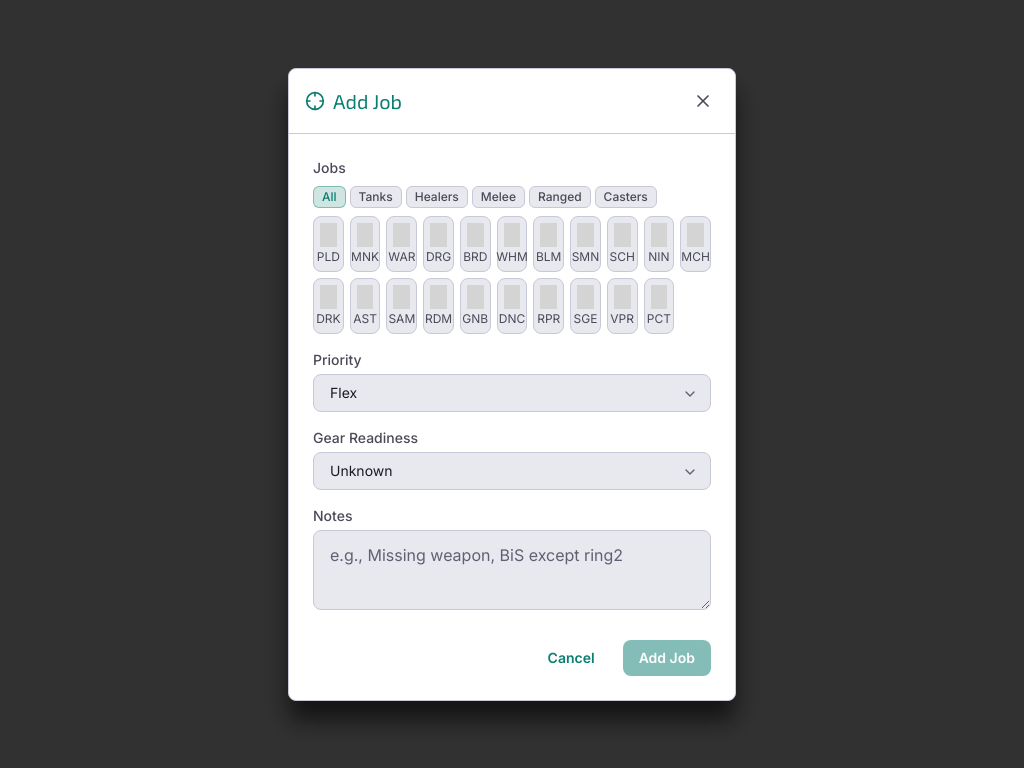
Test case: JobProfileModal (Add mode) › selecting two jobs updates button label to "Add 2 Jobs"
Click the button with test id "job-chip-BRD" at (475, 244), box [460,216,491,272]
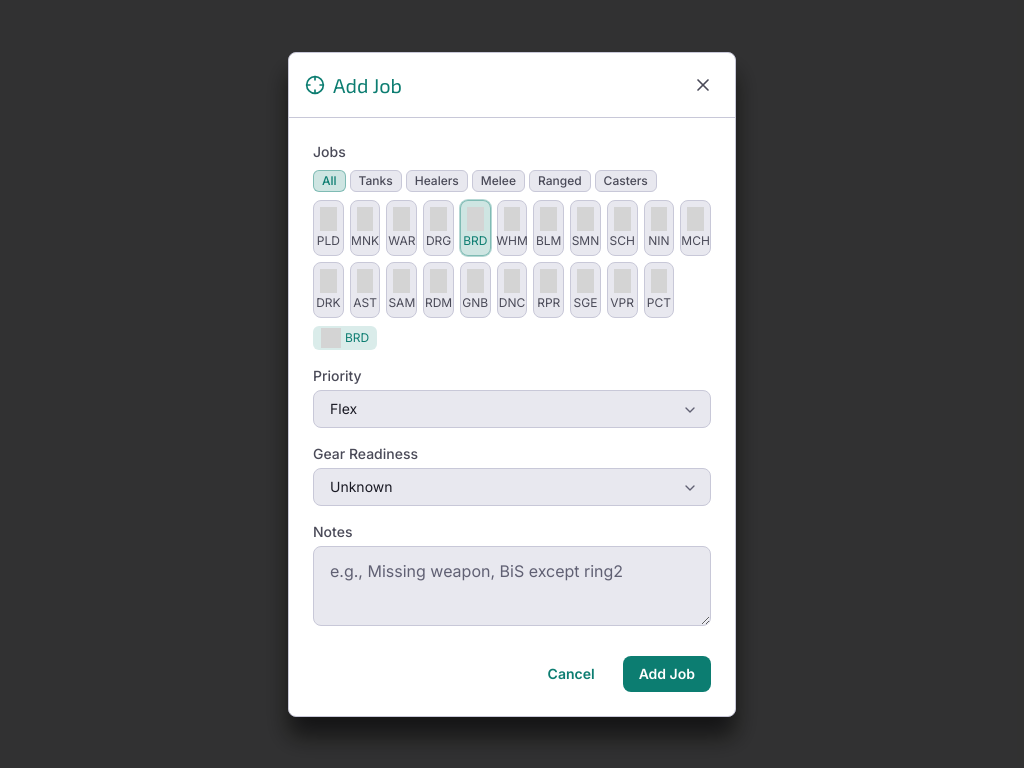
Click the button with test id "job-chip-MCH" at (696, 228), box [680,200,711,256]
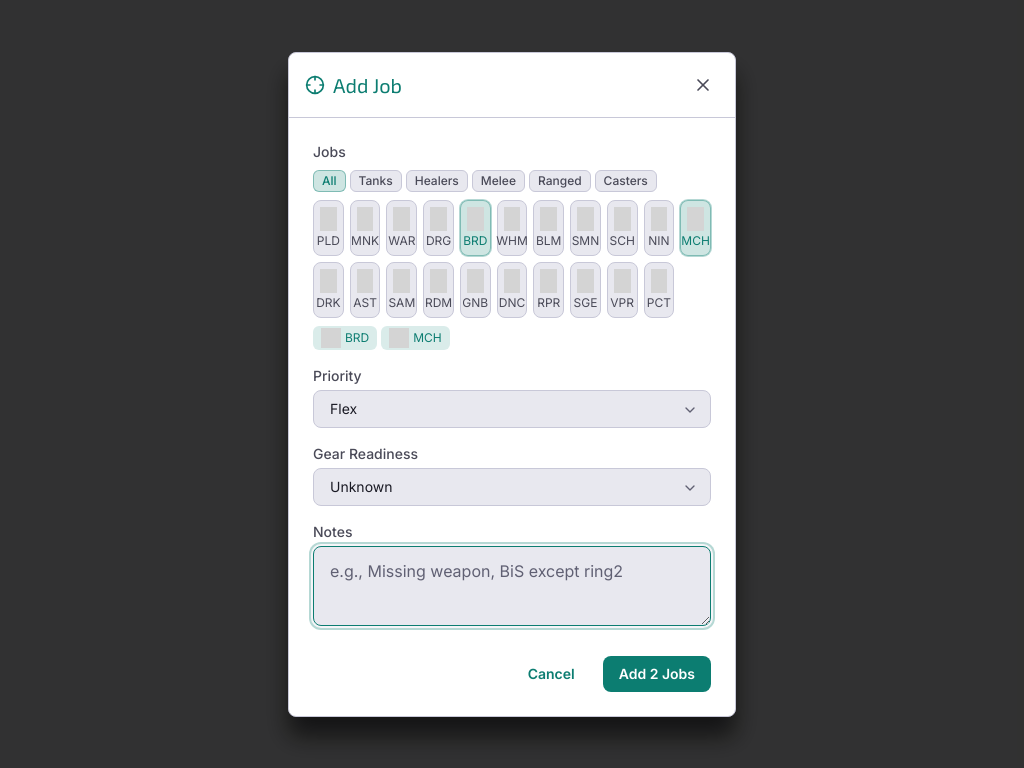
Now the button with test id "submit-add-job" reads "Add 2 Jobs", box [603,656,711,692]
